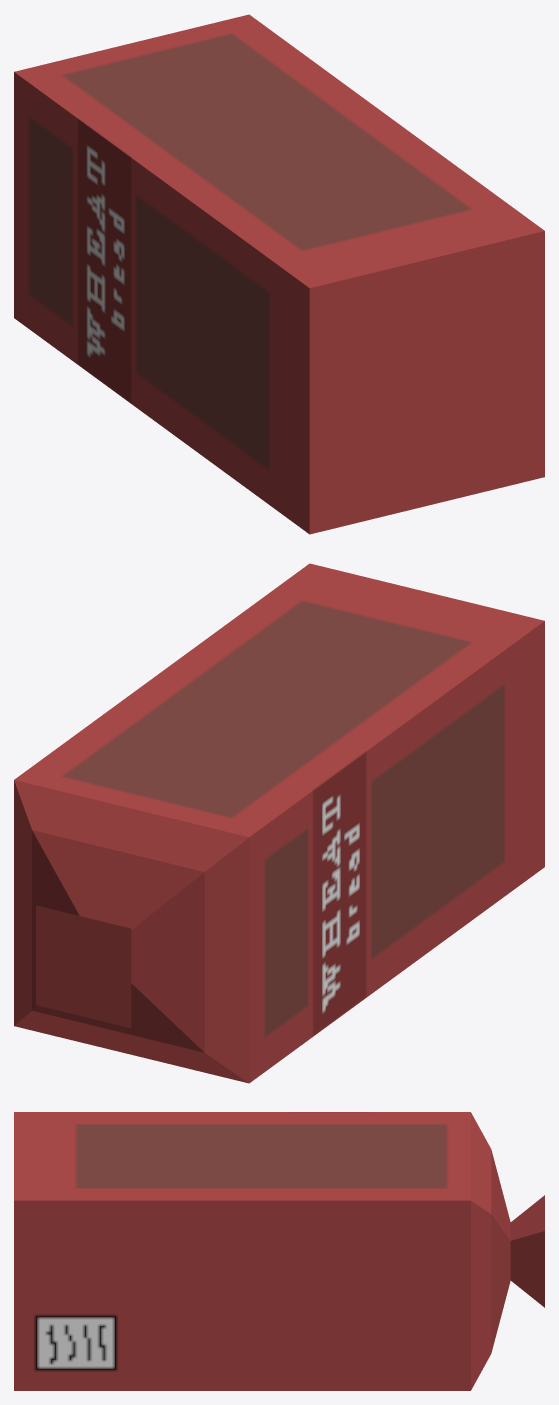
File: Wheat Bread.fbx
3 views of the same model, one above another, from view 1: azimuth 30°, elevation 25°; view 2: azimuth 150°, elevation 25°; view 3: azimuth 270°, elevation 25° (orthographic). The views are drawn at different scales.
Visible parts, largest first — view 1: Cube.164; view 2: Cube.164; view 3: Cube.164.
Boxes of the visible parts, left/top/right/bottom form: Cube.164: left=14, top=14, right=544, bottom=534; Cube.164: left=14, top=563, right=544, bottom=1083; Cube.164: left=14, top=1112, right=544, bottom=1390.
Bounding box in the file's own units: 200 × 200 × 506.
